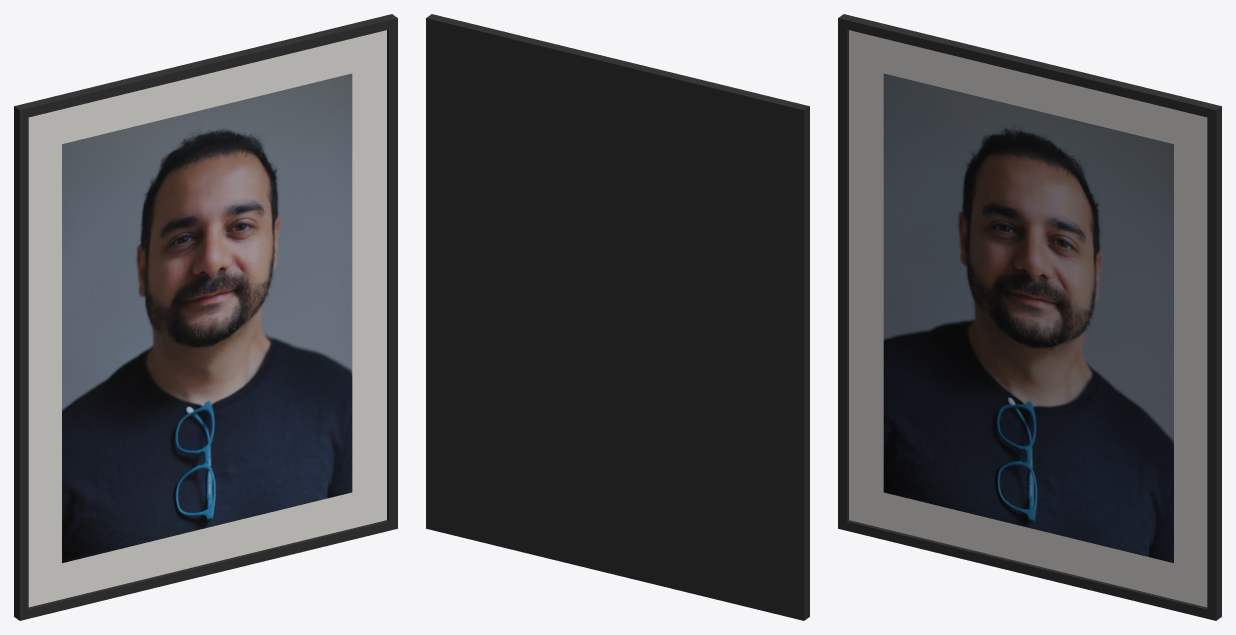
The model's file is glasogonen-90.gltf.
3 renders of one model, left to right at view 1: azimuth 30°, elevation 25°; view 2: azimuth 150°, elevation 25°; view 3: azimuth 330°, elevation 25°, orthographic.
Visible parts, largest first — view 1: tavla; view 2: tavla; view 3: tavla.
Part boxes in pixels (bbox=[...]): tavla: bbox=[14, 14, 397, 620]; tavla: bbox=[426, 14, 809, 620]; tavla: bbox=[838, 14, 1221, 620].
Size of the model in its own units: 0.8497 by 1.1 by 0.022.
Materials: 3 (1 with a texture image).
